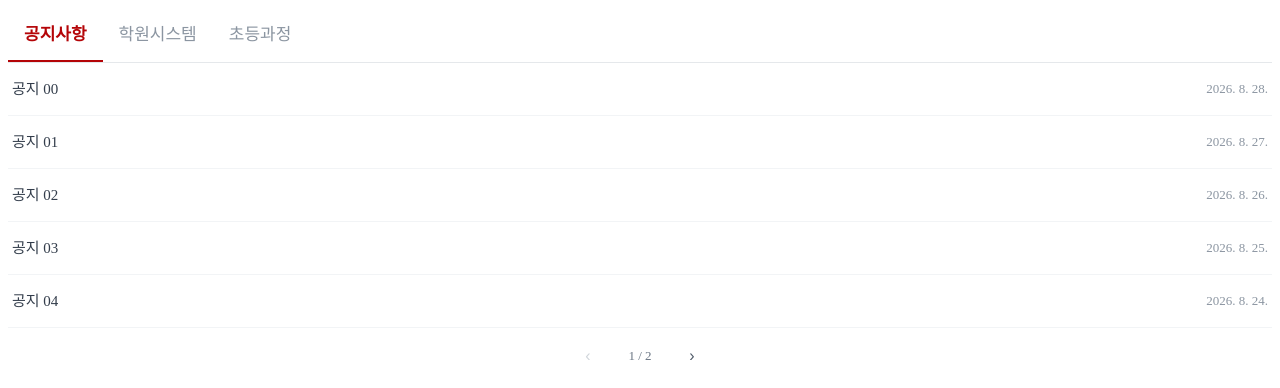
BoardBrowser paging › returns to the first page when the board changes
Click the button named "다음 페이지". click: (692, 356)
box: [676,340,708,372]
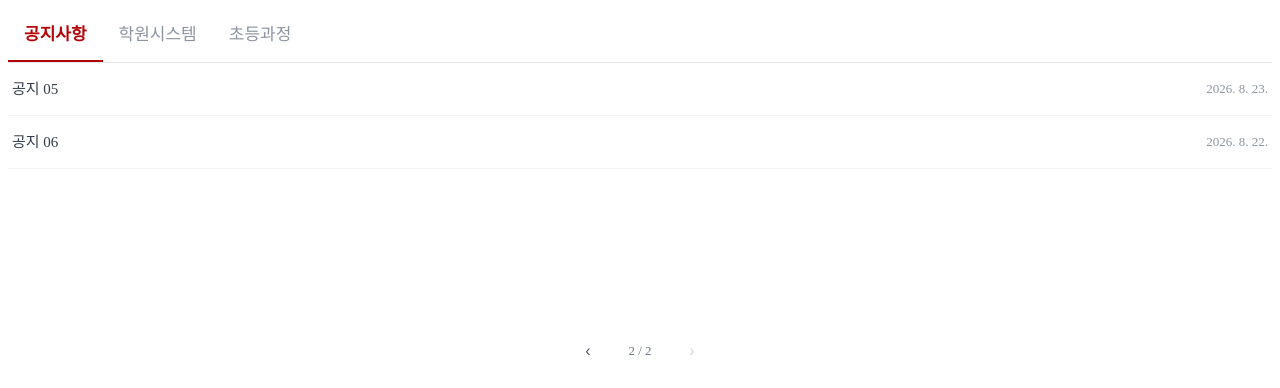
Click the tab "학원시스템". click: (158, 35)
box: [103,8,213,62]
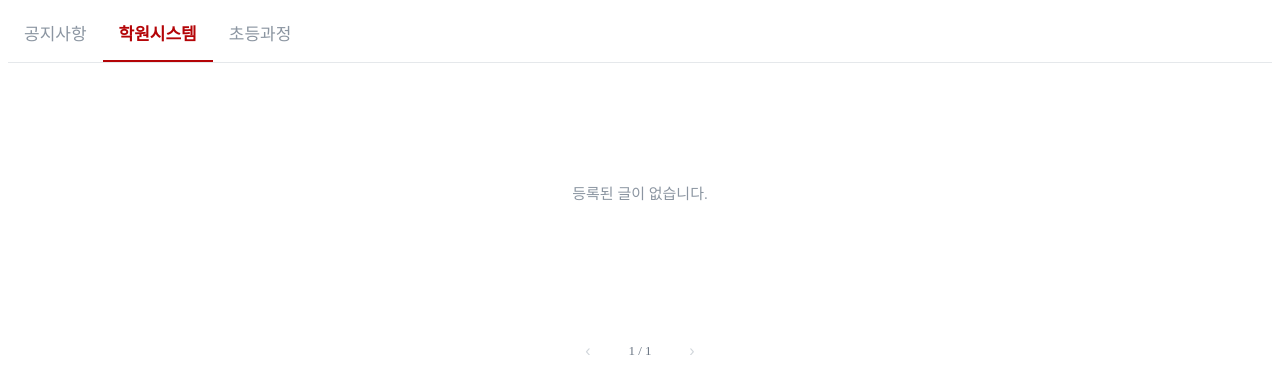
Click the tab "공지사항". click: (55, 35)
box: [8,8,103,62]
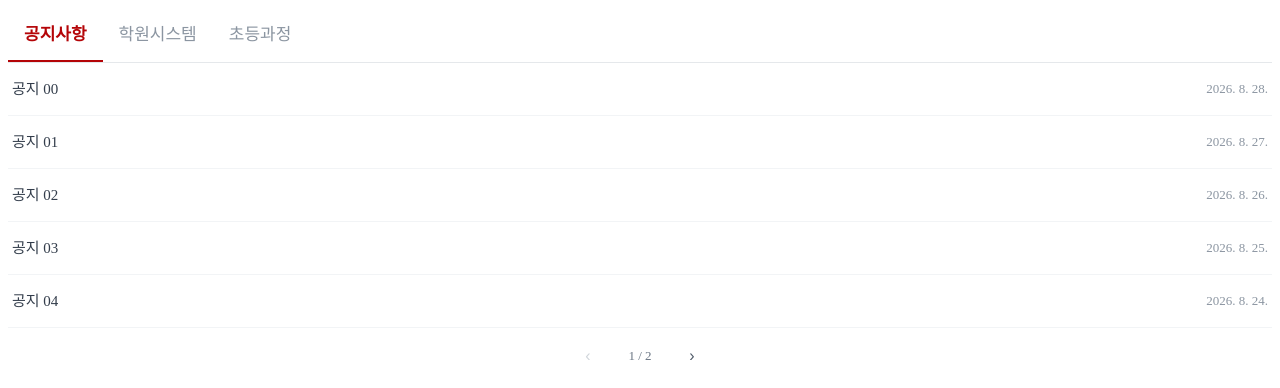
expect the link "공지 00" is shown: met, box [12,78,58,100]
